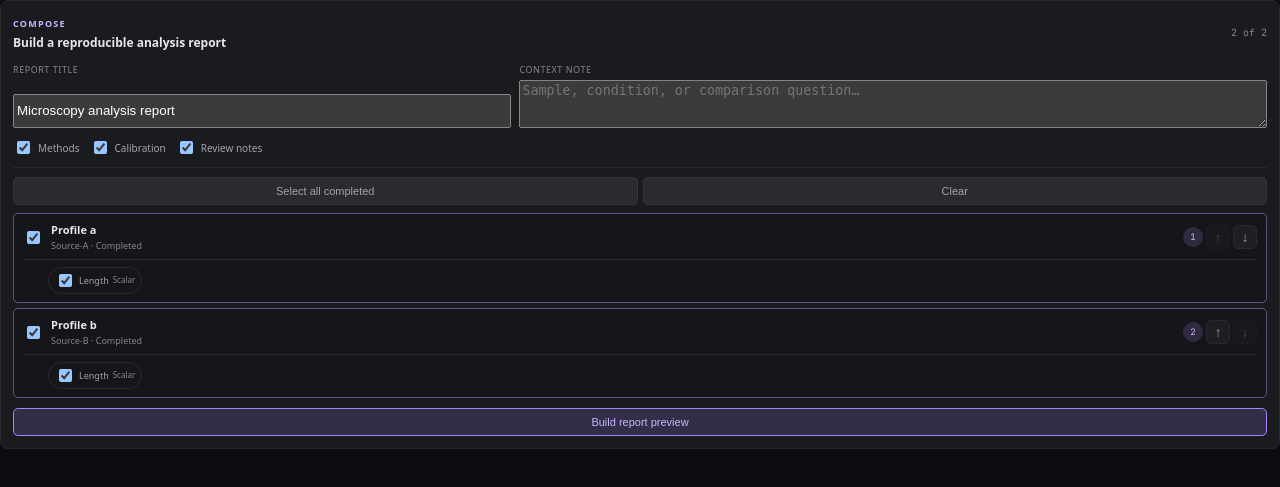
Test: ResultsReportPanel › prevents a selected result from being exported without scientific outputs
Click the checkbox named "lengthscalar" at point(66, 280), box [59,274,72,287]
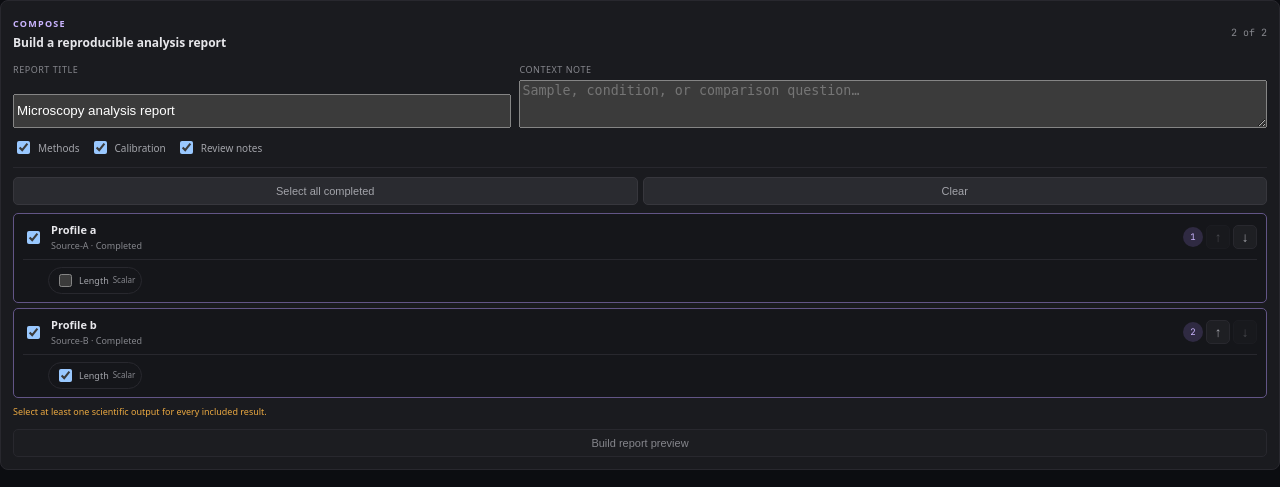
Result: the text "Select at least one scientific output for every included result." is shown at [13,405,267,418]
Result: the button "Build report preview" is disabled at [13,429,1267,457]
